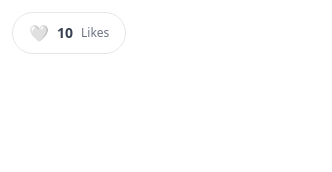
Phase 8: Reader Engagement › LikeButton Component › rolls back optimistic state if server action fails
The image size is (332, 172).
Click the button with aria-label "Like article".
click(69, 33)  # box [12,12,126,54]
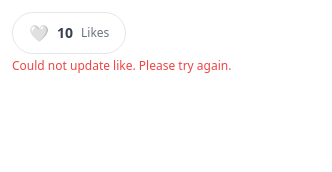
Check: the text "10" is shown, box [57,23,73,43]
Check: the message "Could not update like. Please try again." is shown, box [12,58,231,74]
